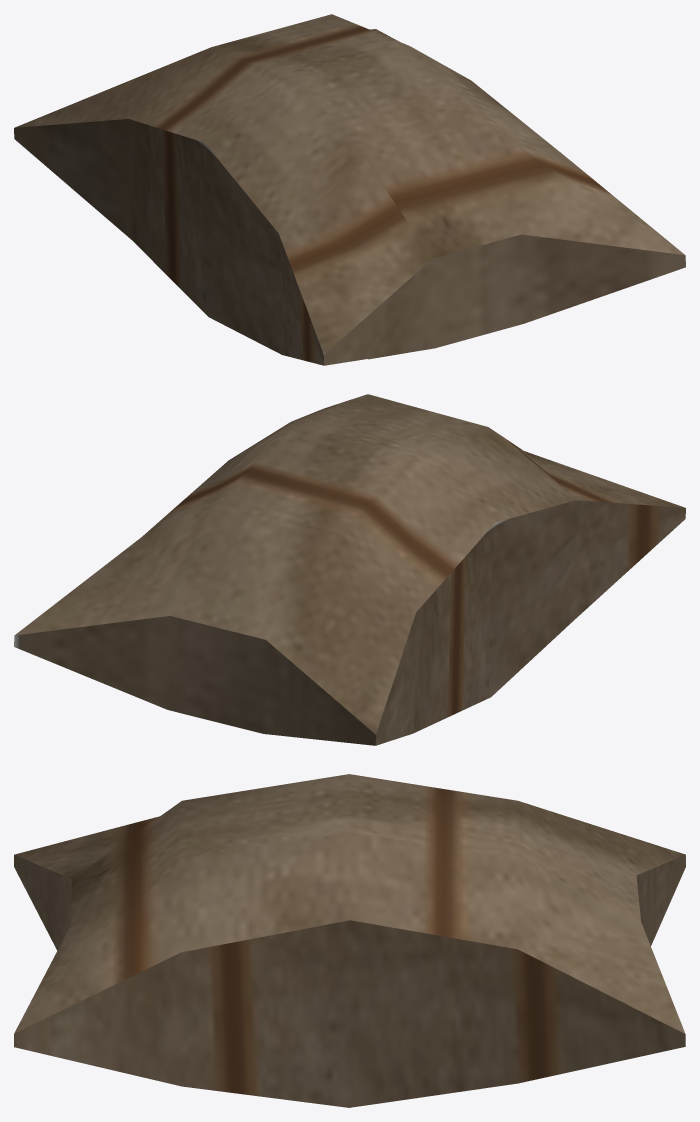
The model's file is sandbag.obj.
3 views of the same model, one above another, from view 1: azimuth 30°, elevation 25°; view 2: azimuth 150°, elevation 25°; view 3: azimuth 270°, elevation 25° (orthographic). The views are drawn at different scales.
Visible parts, largest first — view 1: Box01; view 2: Box01; view 3: Box01.
Part boxes in pixels (box(x1,y1,x2,y2)): Box01: box(14, 14, 685, 365); Box01: box(14, 394, 685, 745); Box01: box(14, 774, 685, 1107).
Bounding box in the file's own units: 40.23 × 25.64 × 59.65.
